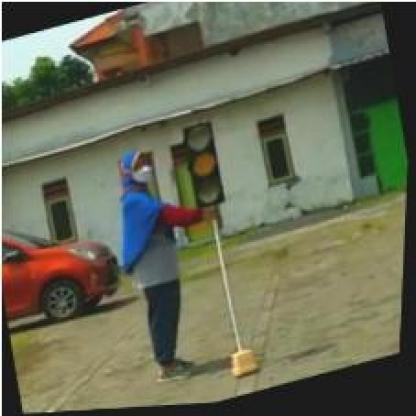yellow: (179, 120, 228, 214)
